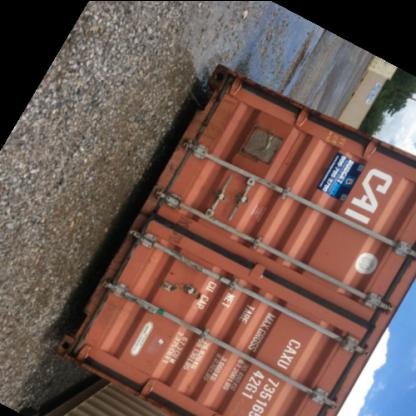Damage: (97, 218, 156, 341), (178, 77, 224, 202), (169, 210, 195, 250)
